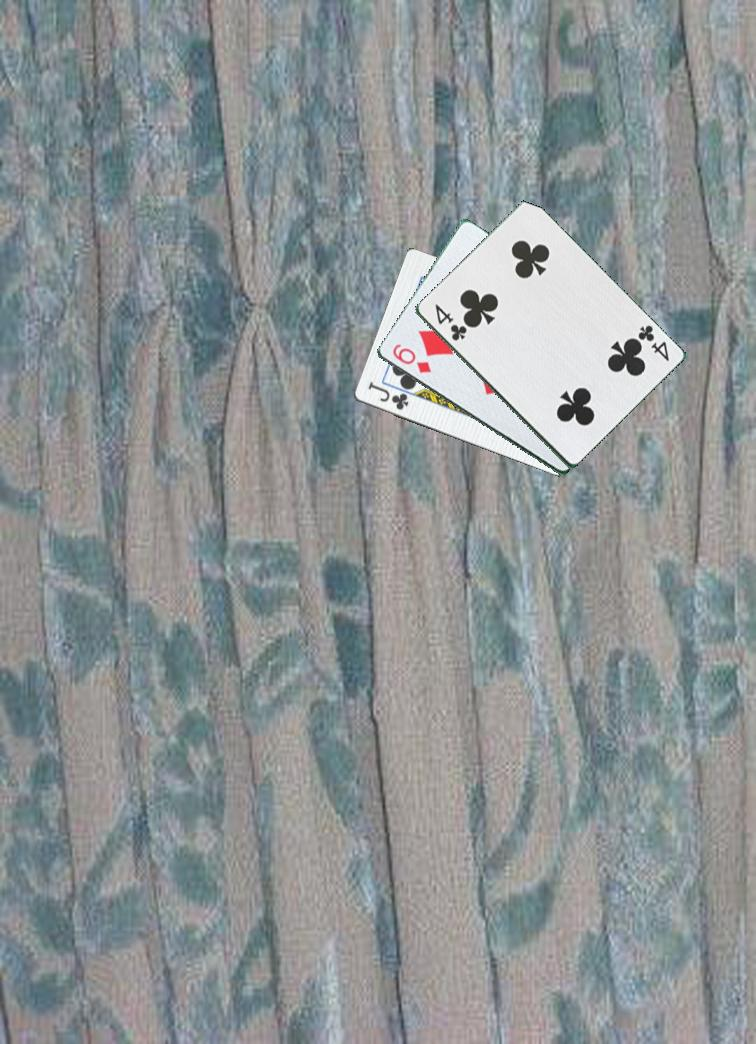4c: (431, 300, 469, 344), (633, 322, 672, 364)
6d: (388, 340, 434, 377)
jc: (364, 379, 411, 413)
